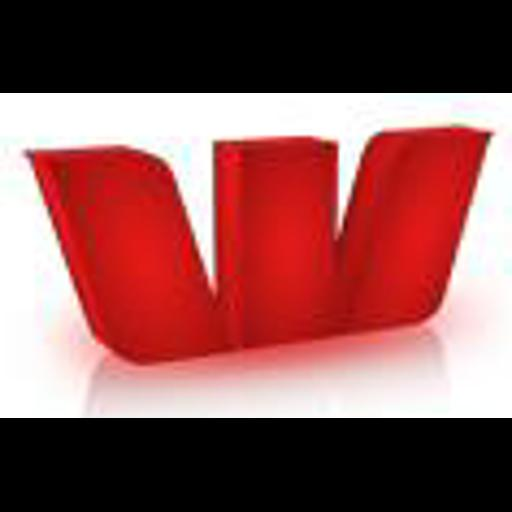Westpac Institutional Banking: (0, 93, 512, 418)
